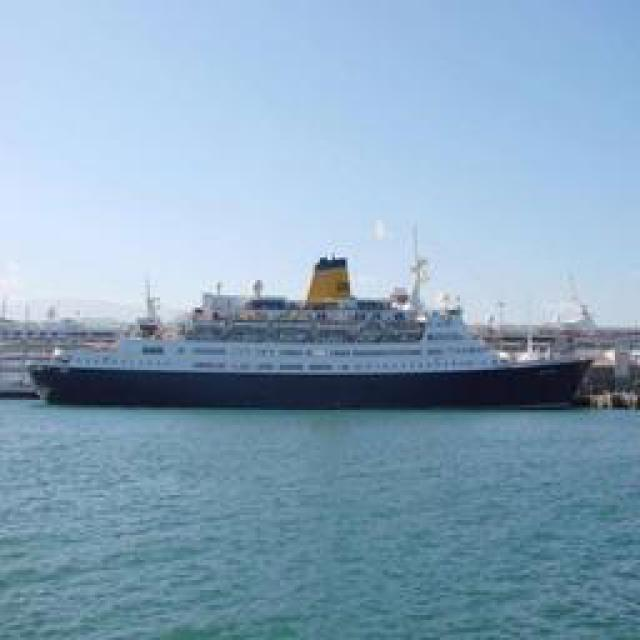Ship: (11, 245, 601, 415)
